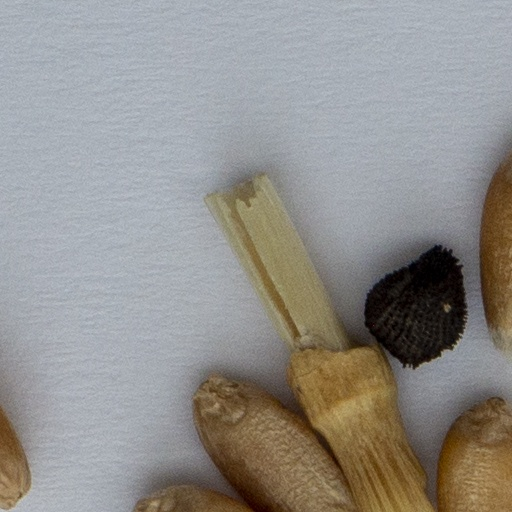Peel-poly: (206, 173, 434, 511)
